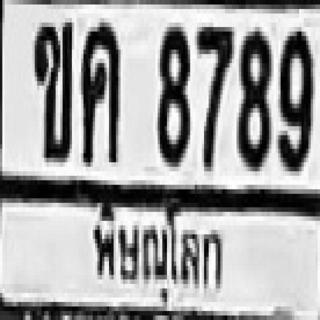A02: (32, 18, 73, 162)
A04: (81, 20, 120, 167)
N07: (195, 22, 233, 169)
N08: (236, 27, 272, 169), (155, 22, 190, 166)
N09: (276, 27, 314, 172)
P46: (84, 200, 230, 301)
